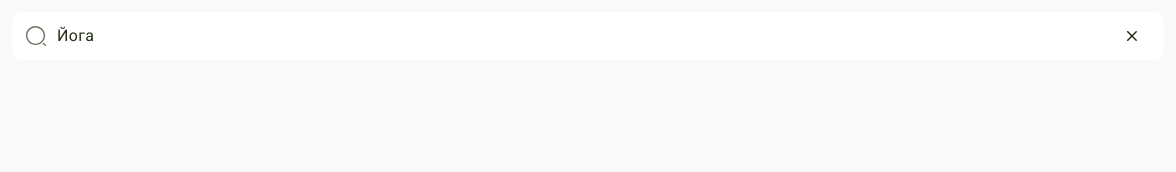
Test case: SearchInput › крестик очищает поле и store и возвращает фокус
Click the button named "Очистить поиск". click: (1132, 36)
box: [1120, 24, 1144, 48]
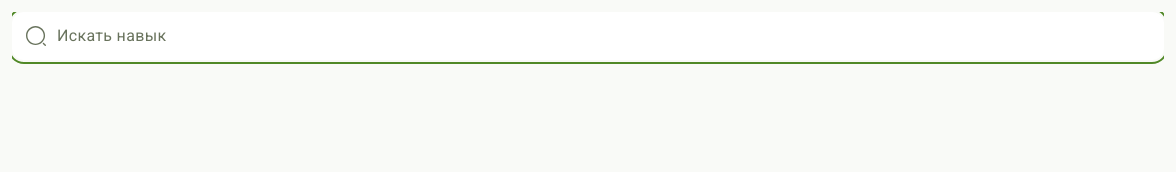
Now the field labelled "Искать навык" is empty, box [12, 12, 1164, 60]
